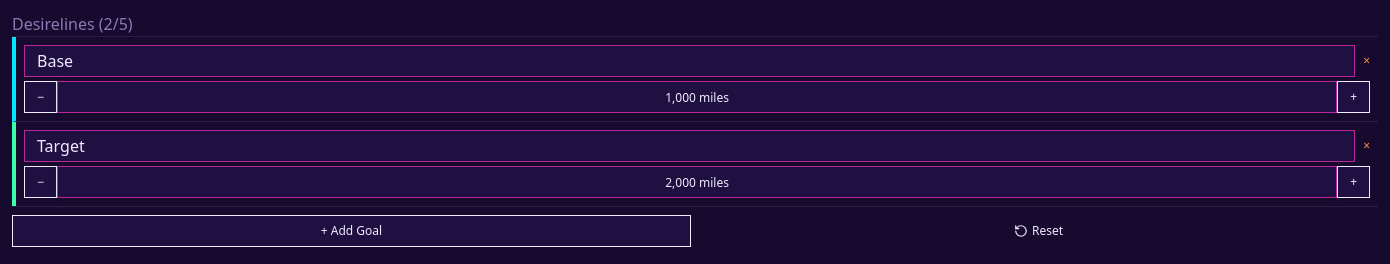
Test: GoalControls › Goal Editing › edits the value in place, in the field that was tapped, with a digit keyboard
Click the field named "Base value".
click(697, 97)  # box [57, 81, 1337, 113]
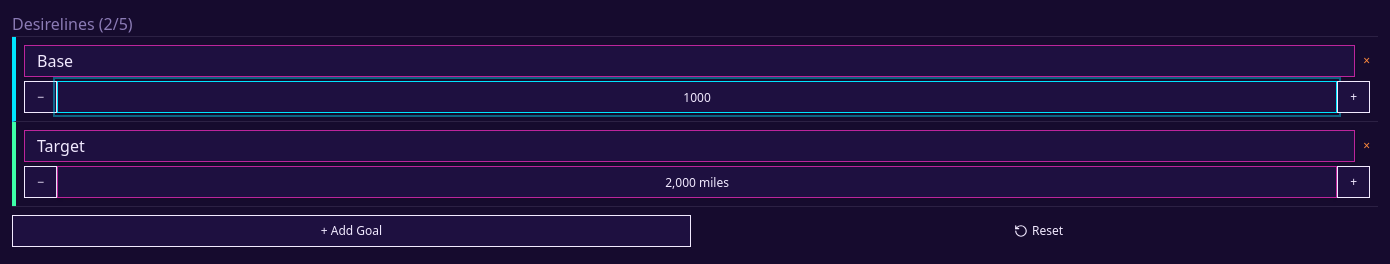
Result: the field named "Base value" holds "1000" at [57, 81, 1337, 113]
